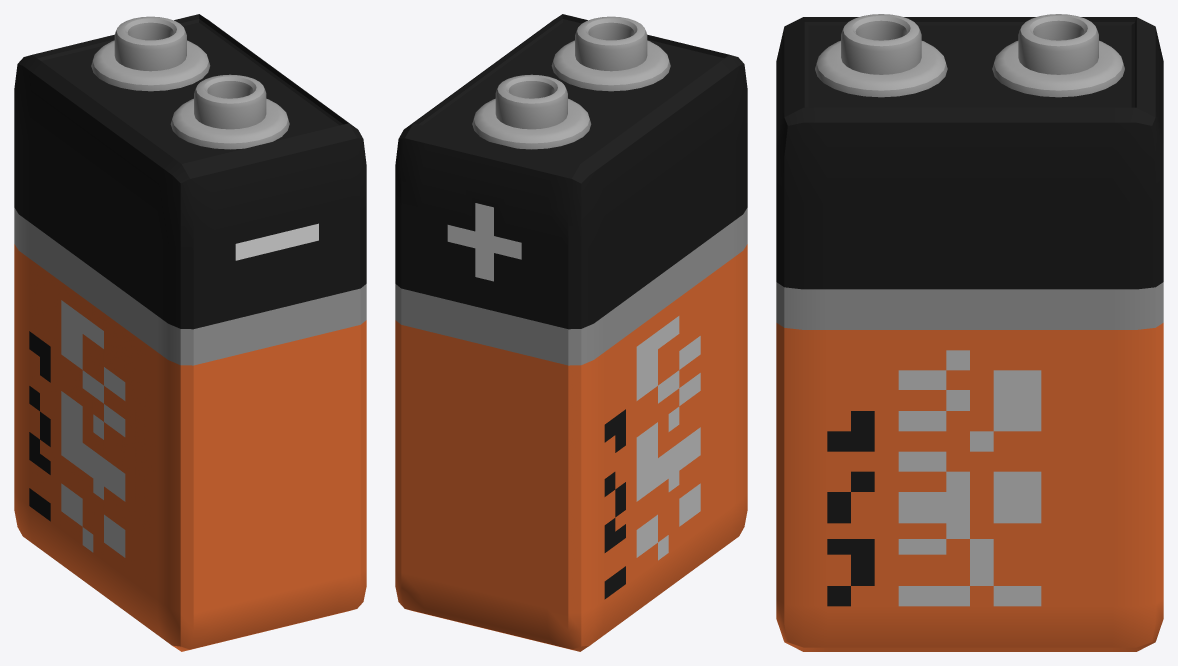
The model's file is BatteryBig.fbx.
3 renders of one model, left to right at view 1: azimuth 30°, elevation 25°; view 2: azimuth 150°, elevation 25°; view 3: azimuth 270°, elevation 25°, orthographic. The views are drawn at different scales.
Parts seen in each view (by area): view 1: Battary; view 2: Battary; view 3: Battary.
Part boxes in pixels (left/top/right/bottom): Battary: left=14, top=14, right=366, bottom=651; Battary: left=395, top=14, right=747, bottom=651; Battary: left=776, top=14, right=1163, bottom=651.
Bounding box in the file's own units: 21.12 × 53.92 × 32.71.
